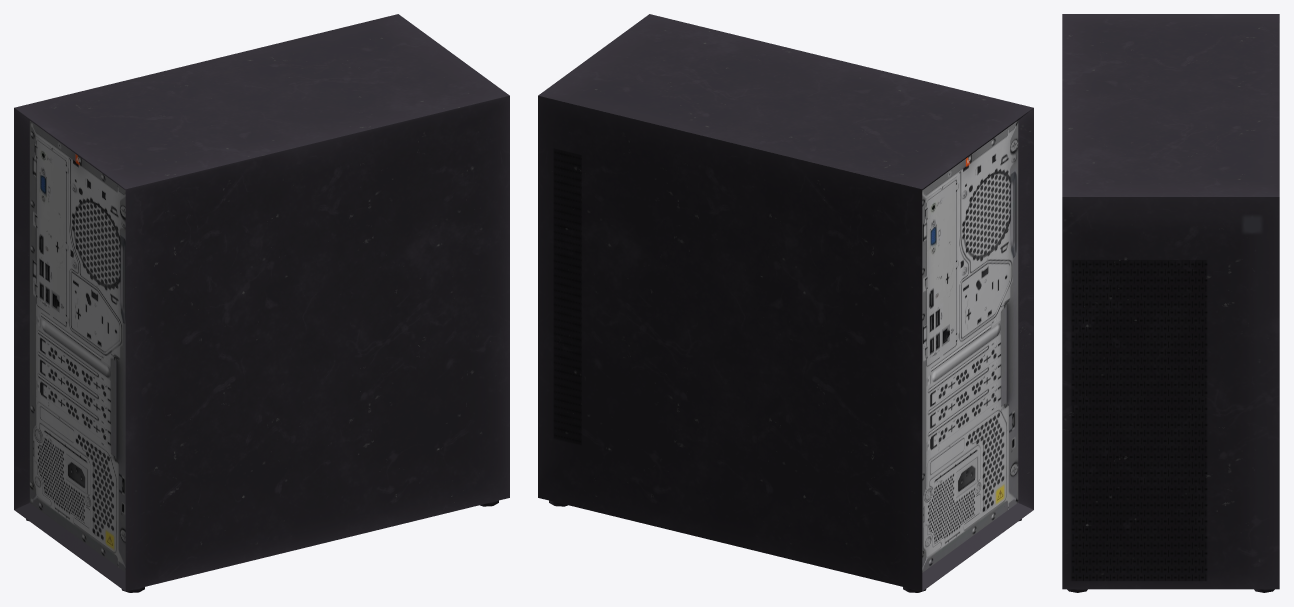
File: BlockUnit.fbx
The picture shows the model from 3 angles, left to right: view 1: azimuth 30°, elevation 25°; view 2: azimuth 150°, elevation 25°; view 3: azimuth 270°, elevation 25°; orthographic projection. The views are drawn at different scales.
Visible parts, largest first — view 1: Куб; view 2: Куб; view 3: Куб.
Boxes of the visible parts, x1,y1,x2,y2 form: Куб: [14, 14, 509, 591]; Куб: [538, 14, 1033, 591]; Куб: [1062, 14, 1279, 589].
Bounding box in the file's own units: 200 × 203 × 101.
2 materials, 2 textured.
